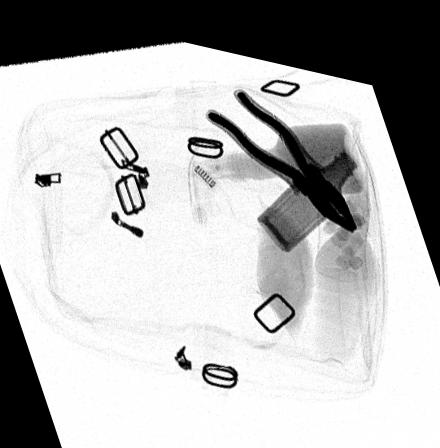Pliers: (207, 80, 359, 217)
